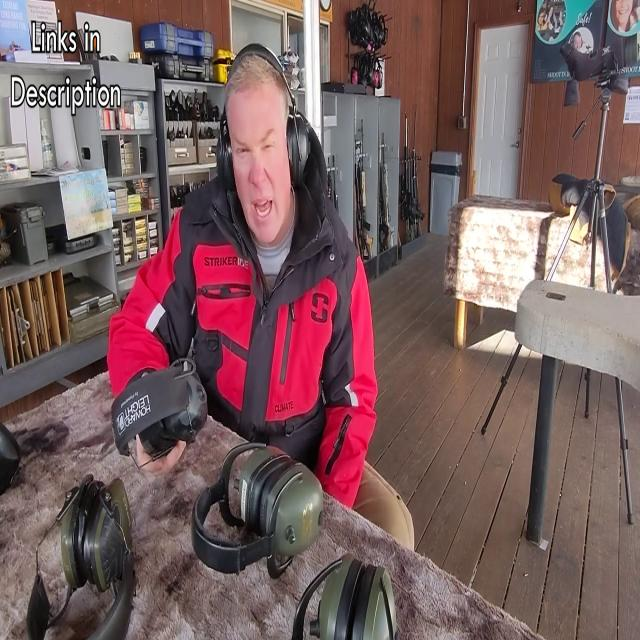earmuff: (284, 104, 315, 194), (212, 129, 238, 192)
